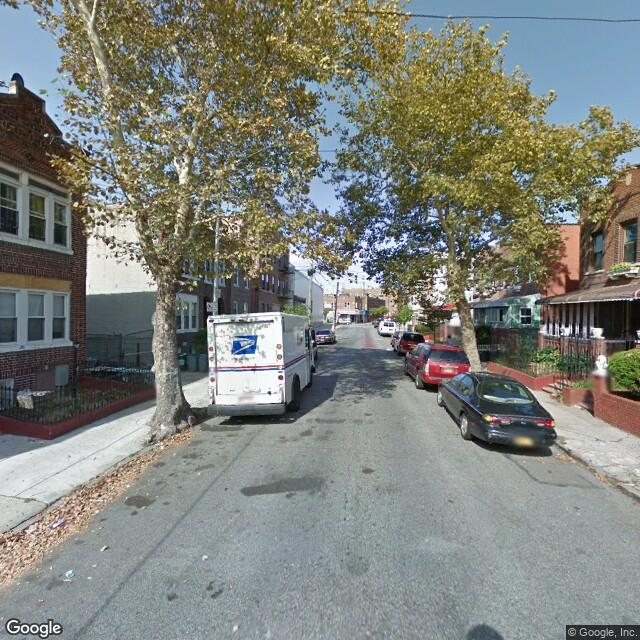litter: (148, 429, 190, 452), (55, 559, 80, 588), (95, 534, 116, 557), (51, 513, 75, 531), (197, 552, 220, 563)
